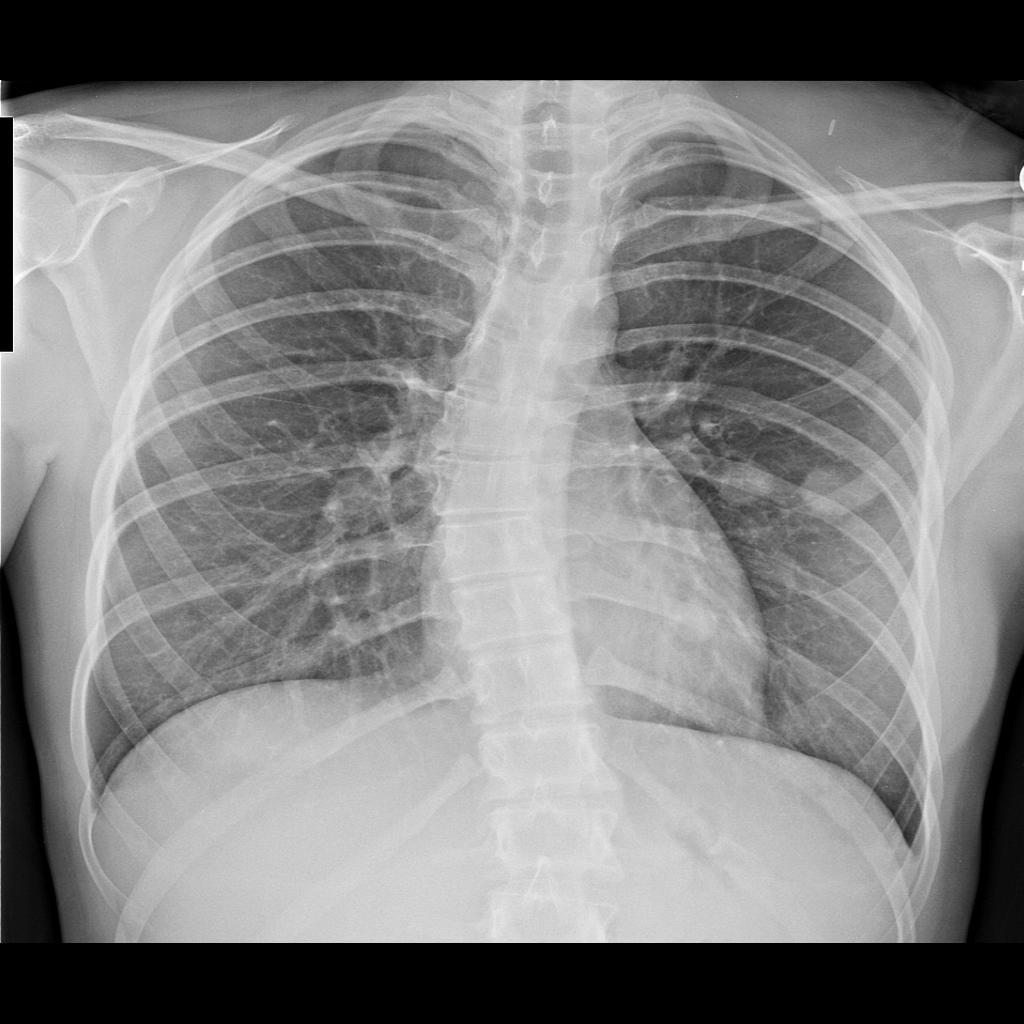Nodule: (323, 463, 399, 538), (802, 465, 860, 519), (718, 456, 777, 509)
